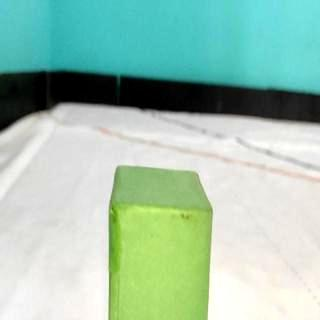greenbox: (106, 163, 215, 320)
